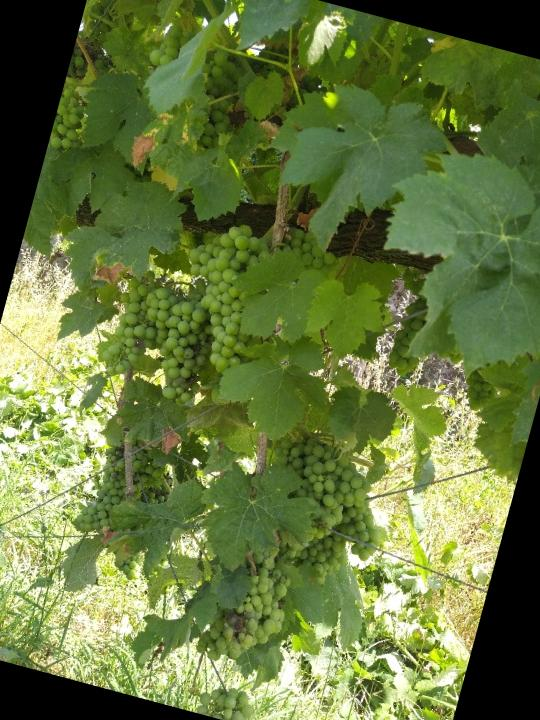grape: (159, 211, 289, 383), (247, 429, 379, 576)
